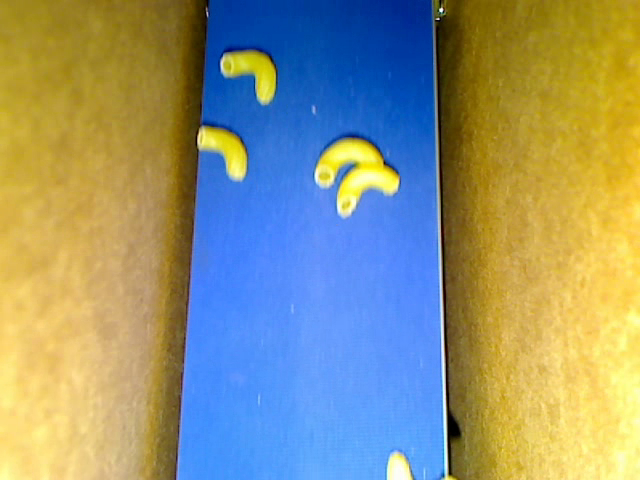elbow: (337, 163, 401, 219), (313, 137, 383, 187), (220, 49, 277, 106), (196, 125, 247, 182), (384, 451, 457, 479)
